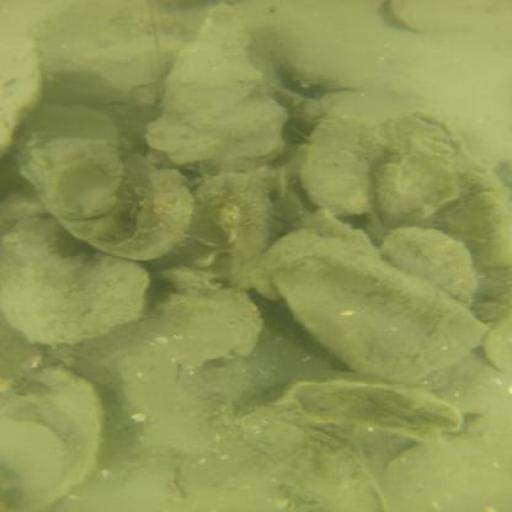Oyster-Closed: (143, 4, 285, 167), (69, 270, 269, 367), (1, 220, 151, 344), (61, 154, 195, 263), (155, 176, 279, 290), (19, 107, 127, 219), (384, 225, 477, 309), (306, 116, 380, 219)
Oyster-Open: (243, 384, 462, 442)
